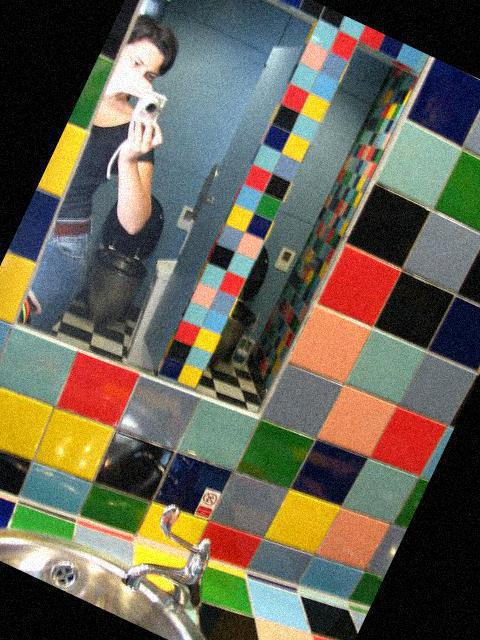Bote de Basura: (113, 239, 208, 372)
Lavamanos: (0, 404, 277, 640)
